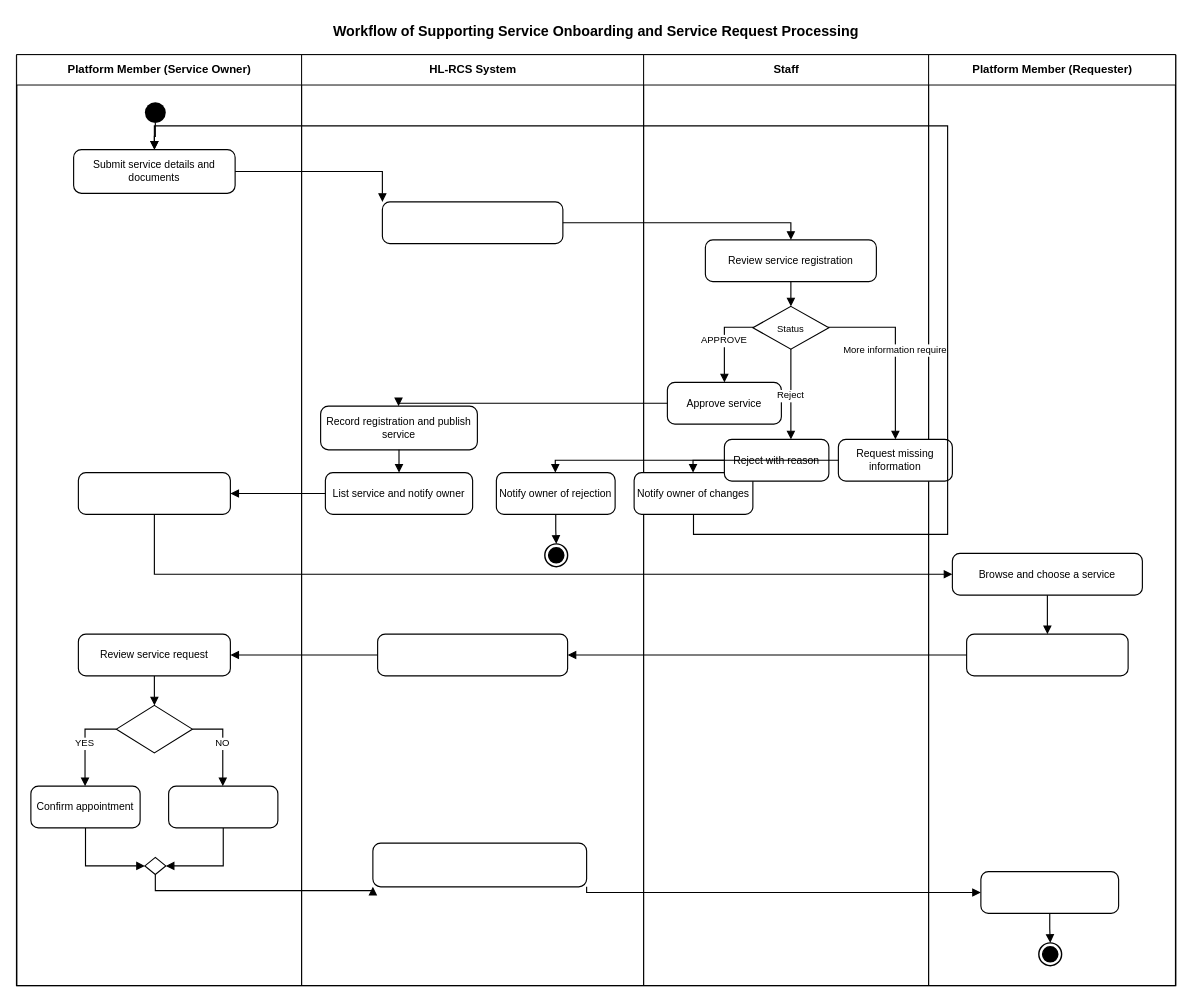
The diagram is 1193 pixels wide and 1002 high, and some of its shapes have lost their labels. Here are the shapes that lost their labels. From the top down, the centre of each, then its label:
At [472,222]: "Send registration for review".
At [153,493]: "View approved service".
At [472,654]: "Send request to service owner".
At [1047,654]: "Submit service request".
At [153,728]: "Accept request ?".
At [223,806]: "Decline with reason".
At [479,864]: "Update request and notify requester".
At [1049,892]: "View request result".
